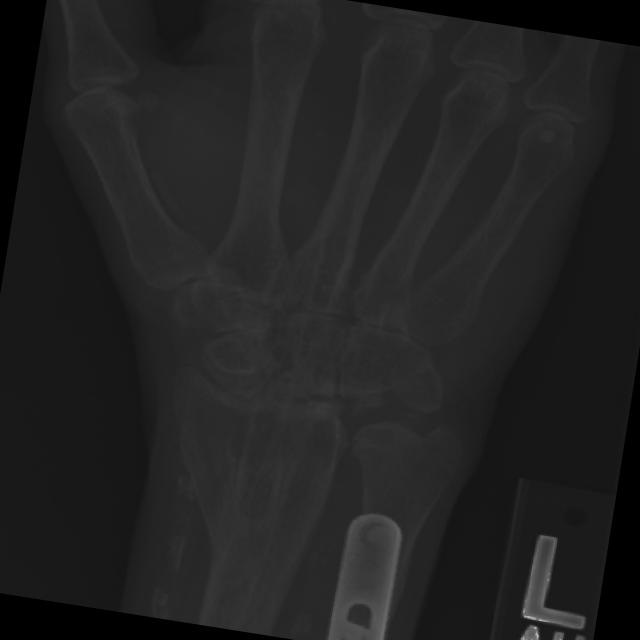wrist positive: (328, 357, 439, 441)
